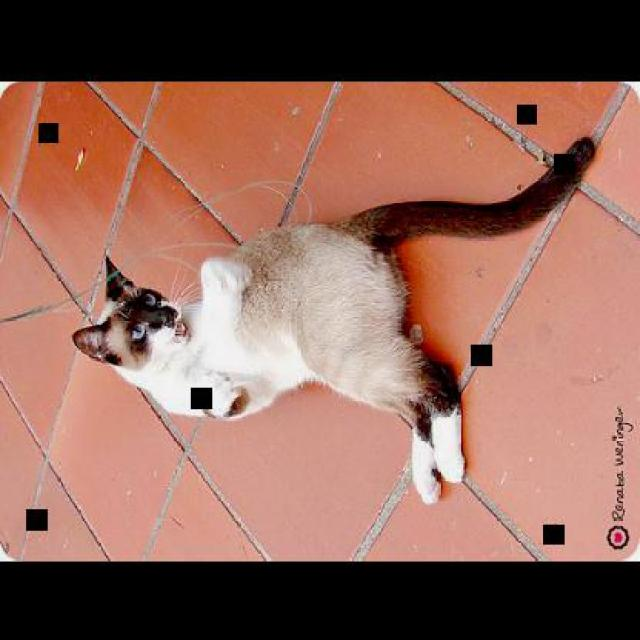unauthorized: (71, 134, 595, 506)
